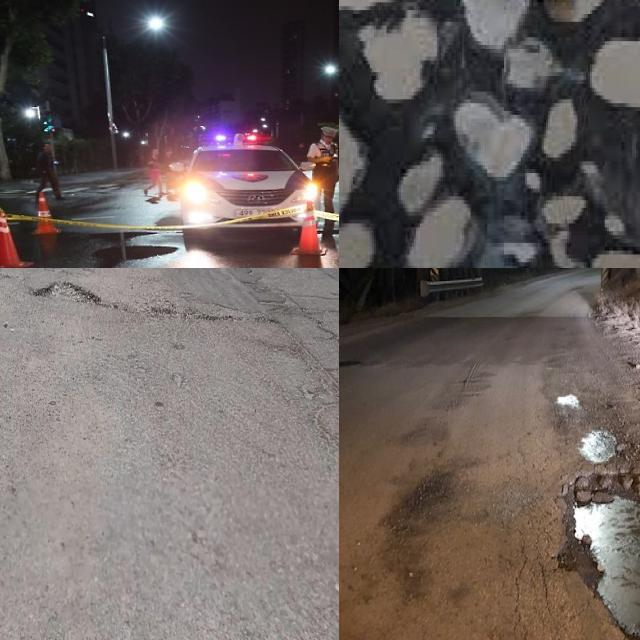Pothole: (576, 496, 640, 636), (359, 10, 438, 100), (452, 95, 531, 181), (590, 37, 640, 112), (414, 200, 468, 268), (464, 0, 529, 50), (543, 196, 586, 268), (505, 37, 562, 89), (398, 153, 443, 214), (34, 280, 101, 306), (339, 223, 373, 268), (545, 0, 604, 21), (543, 196, 586, 224), (581, 430, 617, 463), (504, 216, 533, 241), (503, 243, 538, 263), (604, 216, 625, 236), (580, 160, 599, 176), (557, 395, 579, 407), (526, 173, 540, 191)
